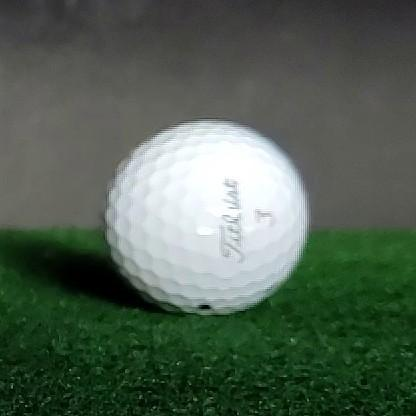golfball: (102, 120, 308, 314)
